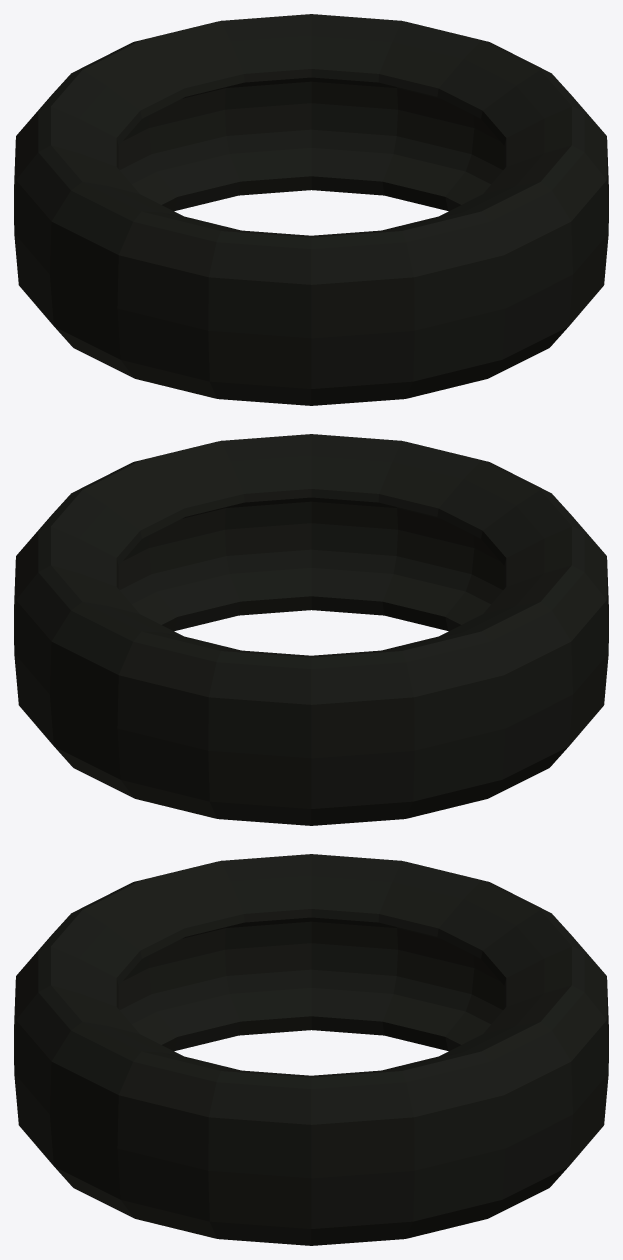
File: SM_Tire.glb
3 views of the same model, one above another, from view 1: azimuth 30°, elevation 25°; view 2: azimuth 150°, elevation 25°; view 3: azimuth 270°, elevation 25° (orthographic).
Parts seen in each view (by area): view 1: SM_Tire; view 2: SM_Tire; view 3: SM_Tire.
Boxes of the visible parts, x1,y1,x2,y2 form: SM_Tire: (14, 14, 608, 405); SM_Tire: (14, 434, 608, 825); SM_Tire: (14, 854, 608, 1245).
Bounding box in the file's own units: 0.8023 × 0.2476 × 0.7904.
1 material, 1 textured.
